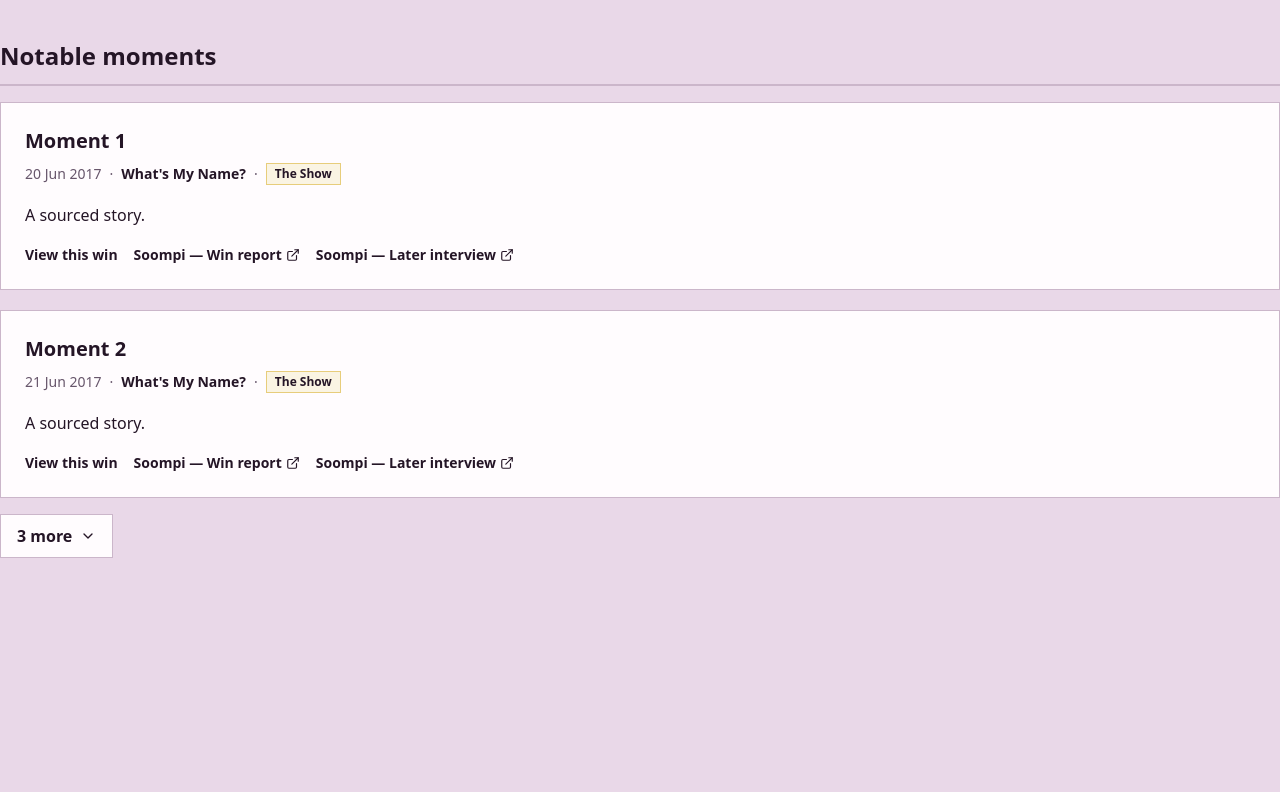
Test: WinMoments › shows two moments initially and toggles the remainder
The image size is (1280, 792).
Expected: the heading "Moment 1" is shown, [25,127,126,154]
Expected: the heading "Moment 2" is shown, [25,335,126,362]
Click the button with aria-label "Show 3 more notable moments".
click(57, 536)  # box [0,514,113,558]
(page scrolled)
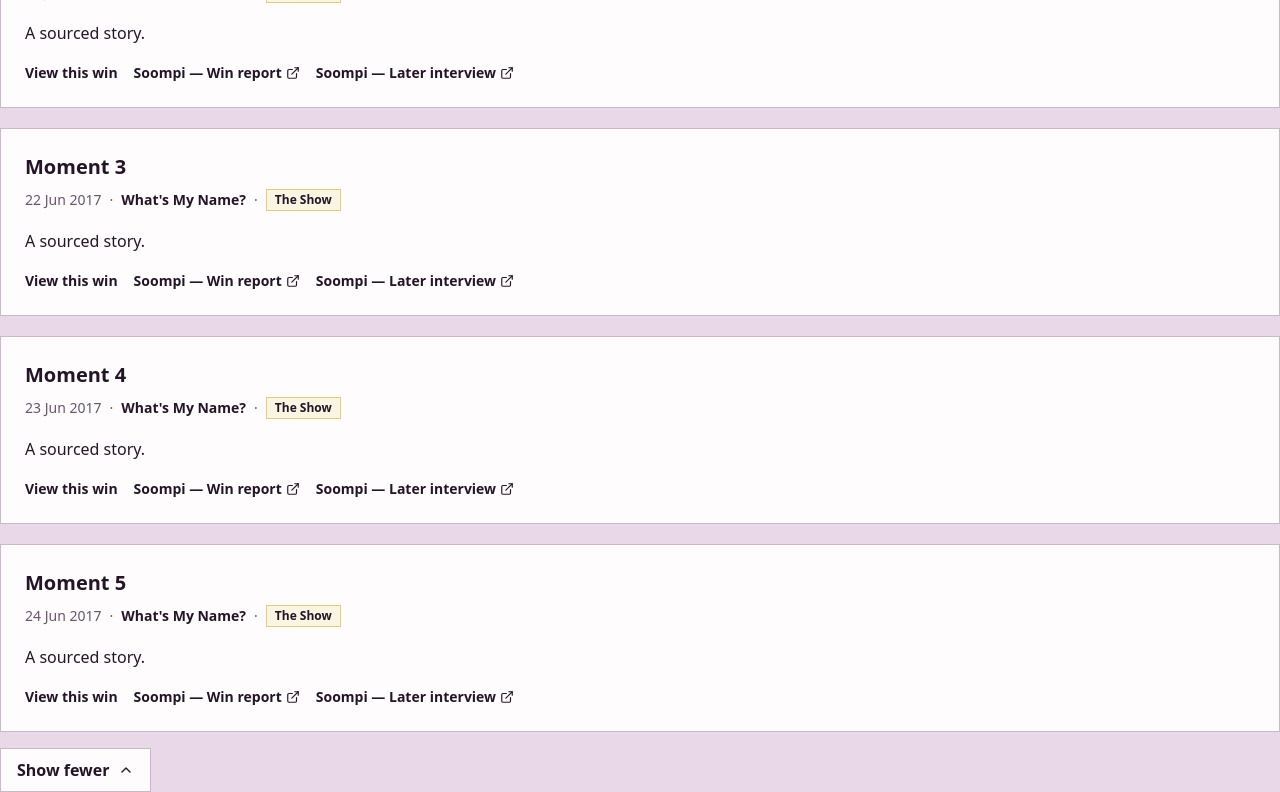
Result: the heading "Moment 5" is shown at [25,569,126,596]
Result: the button named "Show 3 more notable moments" is expanded
Click the button named "Show 3 more notable moments".
click(75, 770)  # box [0,748,150,791]
(page scrolled)
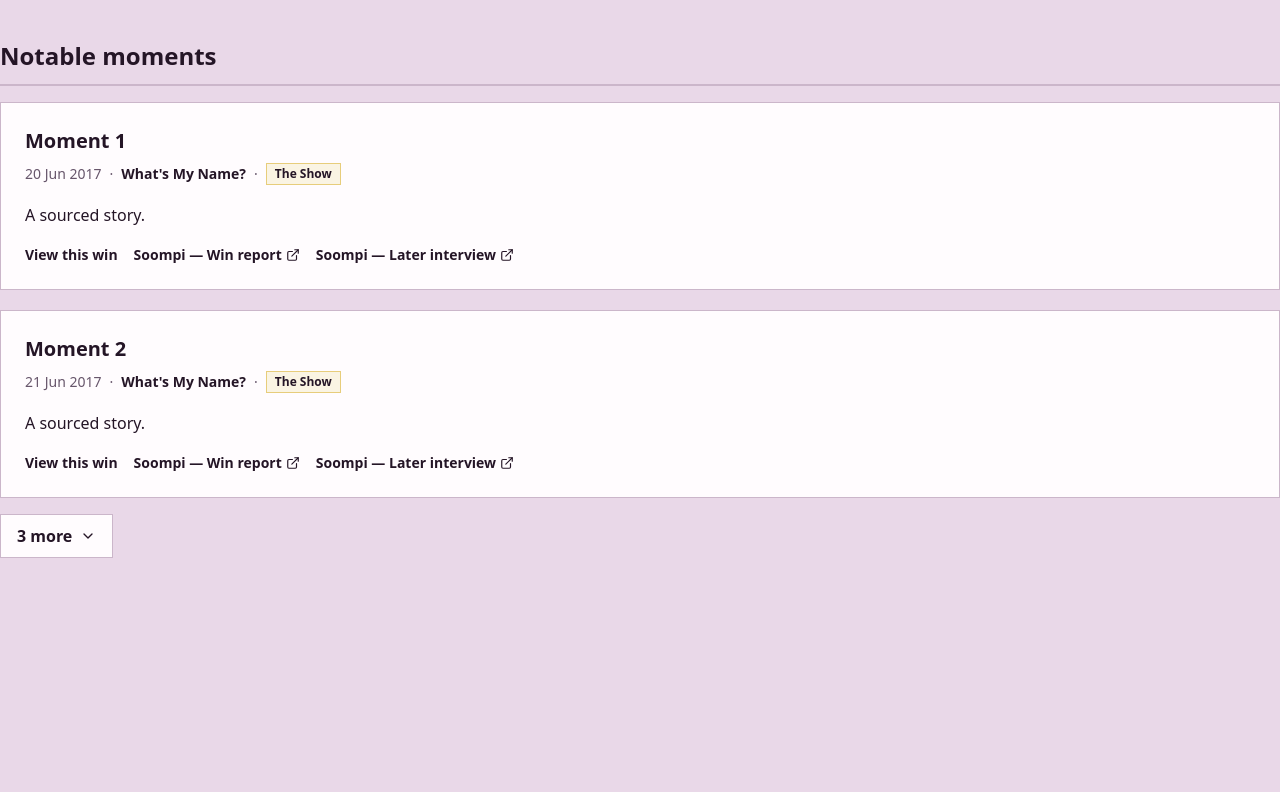
Result: the heading "Moment 3" is gone
